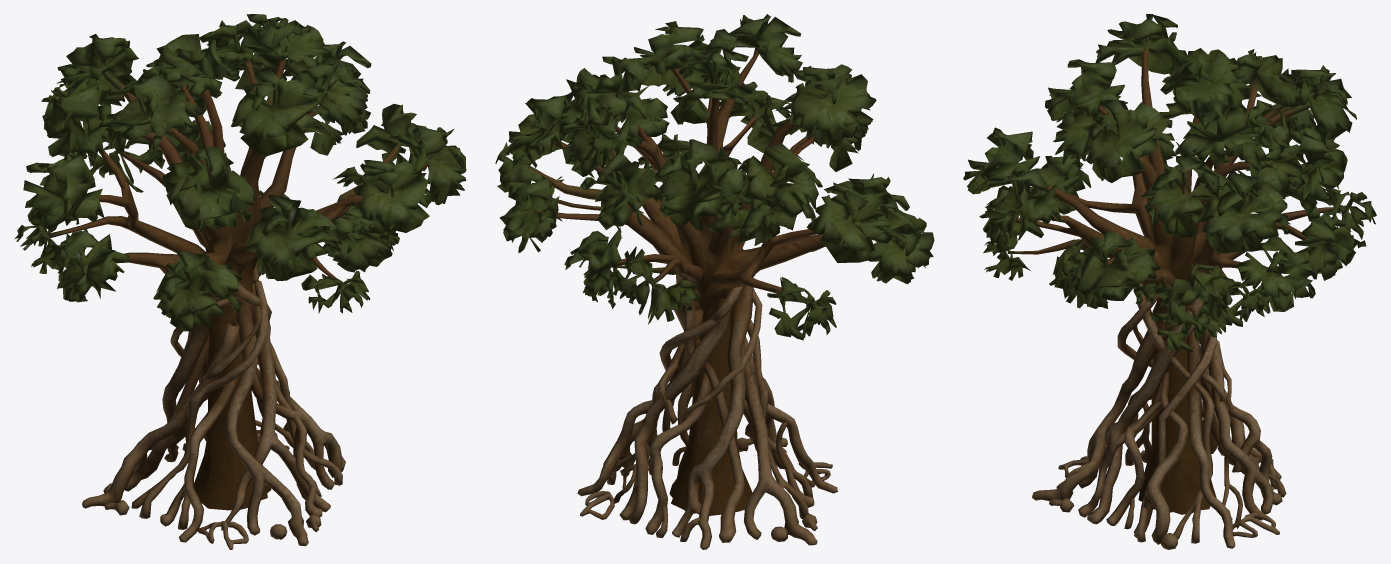
Rendered from jun_strangler_fig_tree.glb.
The picture shows the model from 3 angles, left to right: view 1: azimuth 30°, elevation 25°; view 2: azimuth 150°, elevation 25°; view 3: azimuth 270°, elevation 25°; orthographic projection. The views are drawn at different scales.
Parts seen in each view (by area): view 1: tripo_node_99fa390e-cb52-41d6-ba5c-23c81ccb37db; view 2: tripo_node_99fa390e-cb52-41d6-ba5c-23c81ccb37db; view 3: tripo_node_99fa390e-cb52-41d6-ba5c-23c81ccb37db.
Part boxes in pixels (<box>): tripo_node_99fa390e-cb52-41d6-ba5c-23c81ccb37db: <box>14,14,466,549</box>; tripo_node_99fa390e-cb52-41d6-ba5c-23c81ccb37db: <box>495,14,934,549</box>; tripo_node_99fa390e-cb52-41d6-ba5c-23c81ccb37db: <box>963,14,1376,549</box>.
Bounding box in the file's own units: 0.9277 × 0.998 × 0.8574.
Materials: 1 (1 with a texture image).
